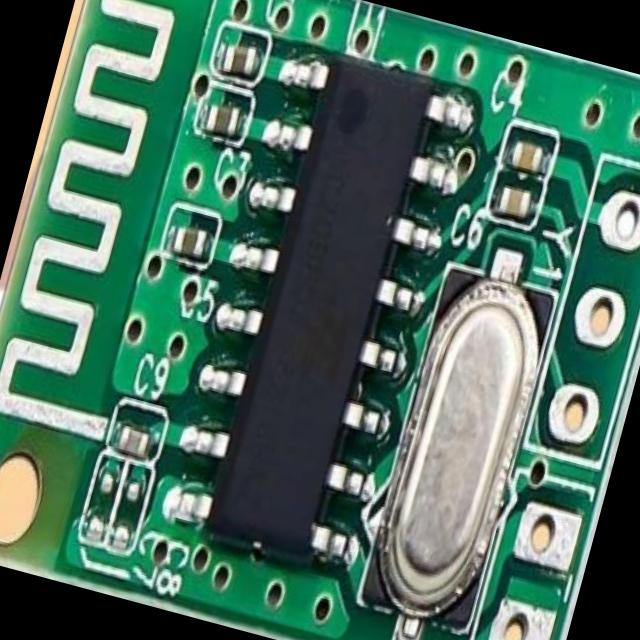IC: (168, 22, 470, 580)
capacitor: (171, 218, 223, 272), (200, 102, 246, 140), (506, 134, 548, 175), (216, 39, 260, 77), (496, 176, 532, 222), (116, 416, 154, 459)
